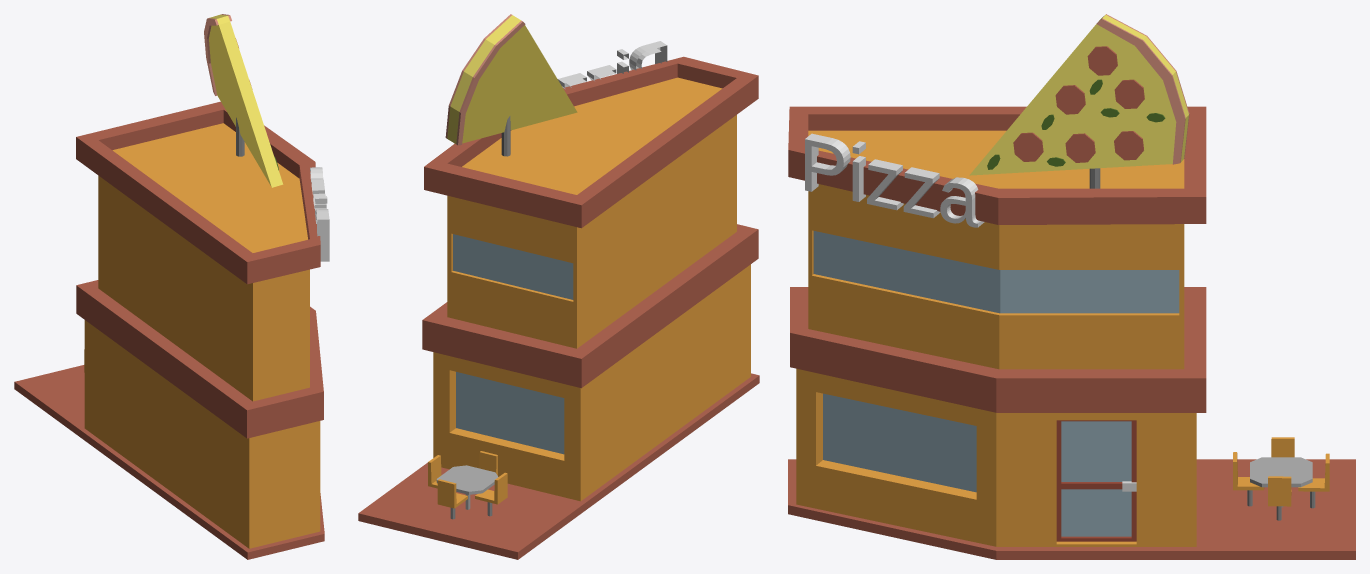
File: pizza-p.glb
3 renders of one model, left to right at view 1: azimuth 30°, elevation 25°; view 2: azimuth 150°, elevation 25°; view 3: azimuth 270°, elevation 25°, orthographic. The views are drawn at different scales.
Visible parts, largest first — view 1: pizza-p; view 2: pizza-p; view 3: pizza-p.
Part boxes in pixels (x1=…): pizza-p: x1=14, y1=14, x2=329, y2=559; pizza-p: x1=358, y1=14, x2=759, y2=559; pizza-p: x1=788, y1=14, x2=1355, y2=559.
Size of the model in its own units: 2.87 by 7.55 by 7.53.
Materials: 1 (1 with a texture image).
